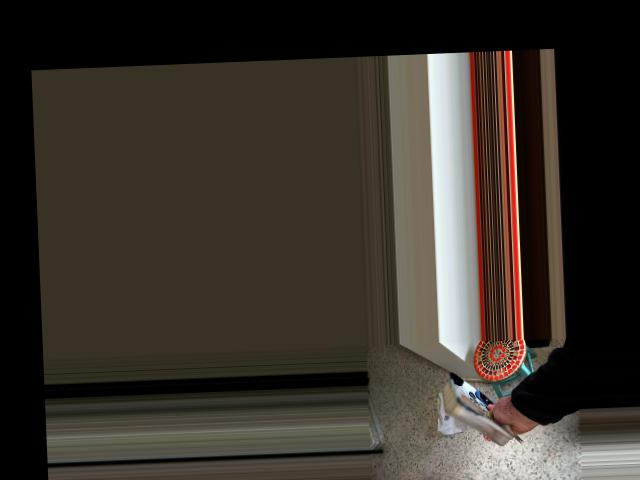cheese: (427, 357, 537, 458)
